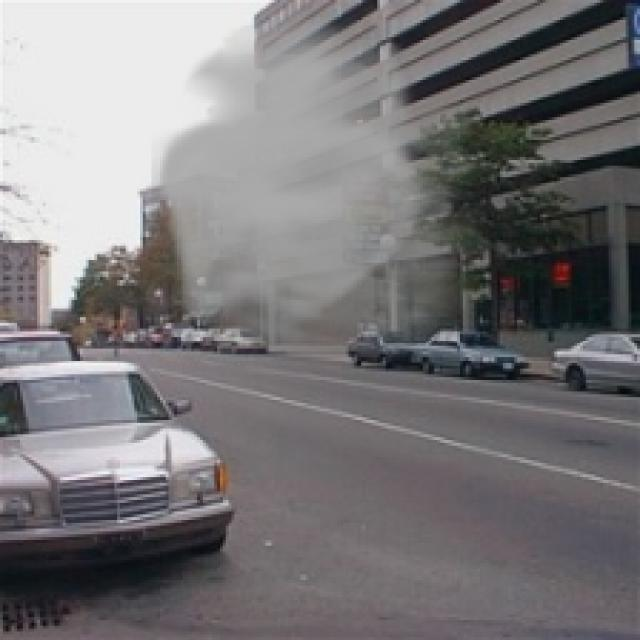Smoke: (151, 17, 520, 372)
